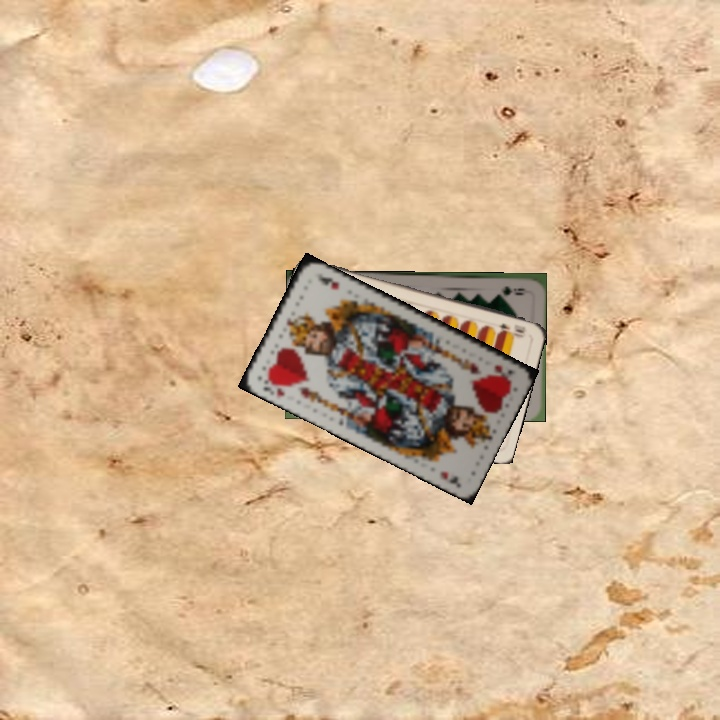E10: (494, 319, 530, 340)
G9: (499, 282, 528, 296)
HK: (259, 373, 290, 400), (489, 360, 515, 376)
